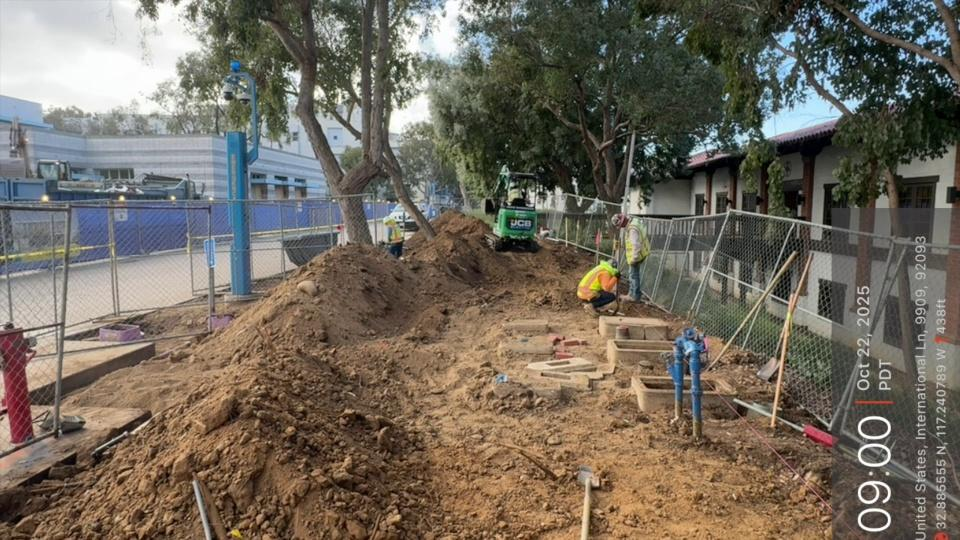Exacavator: (483, 163, 541, 253)
